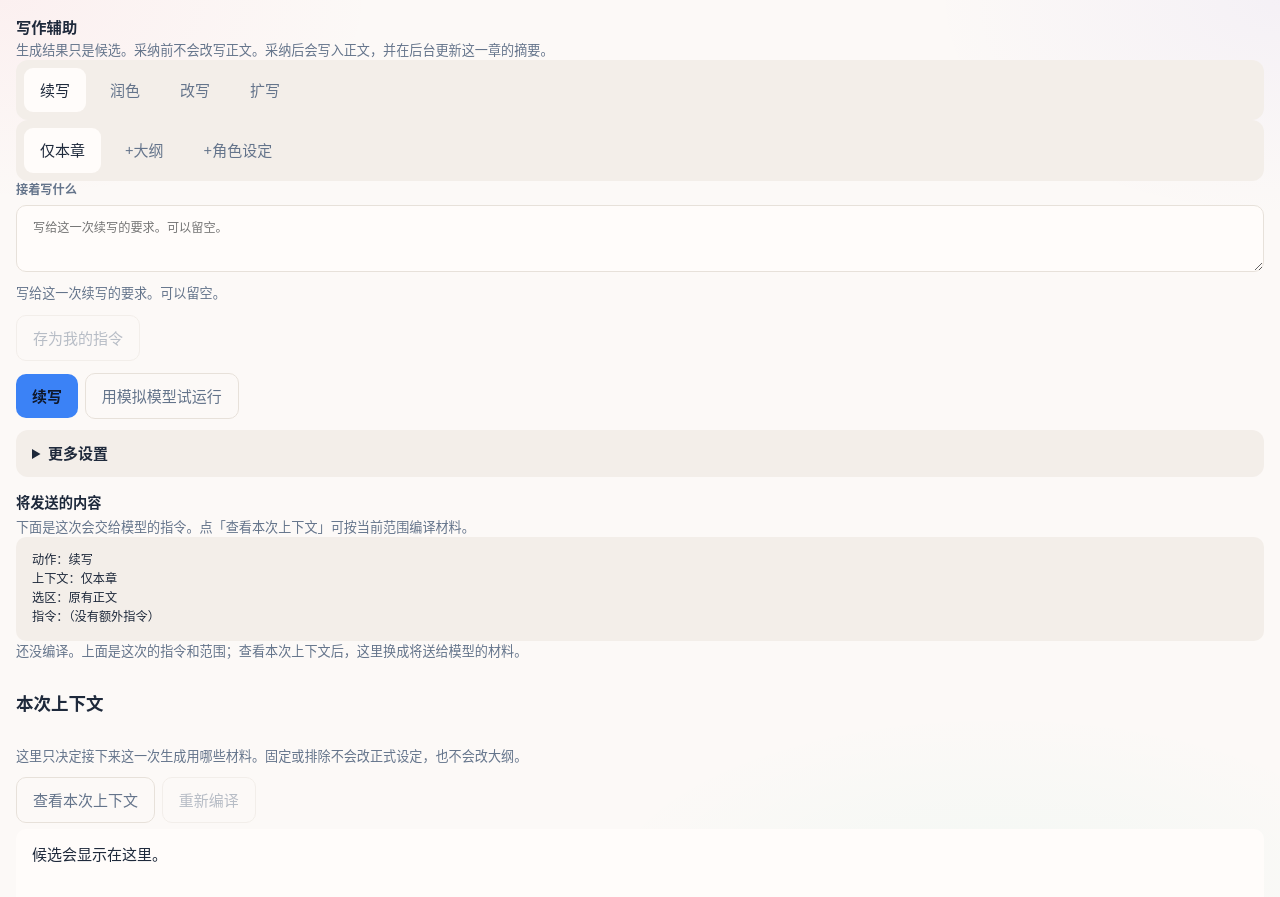
Test: AiPanel › t006 shows configuration guidance and does not start a task
Click the button "续写" below "写给这一次续写的要求。可以留空。".
click(47, 396)  # box [16,374,78,418]
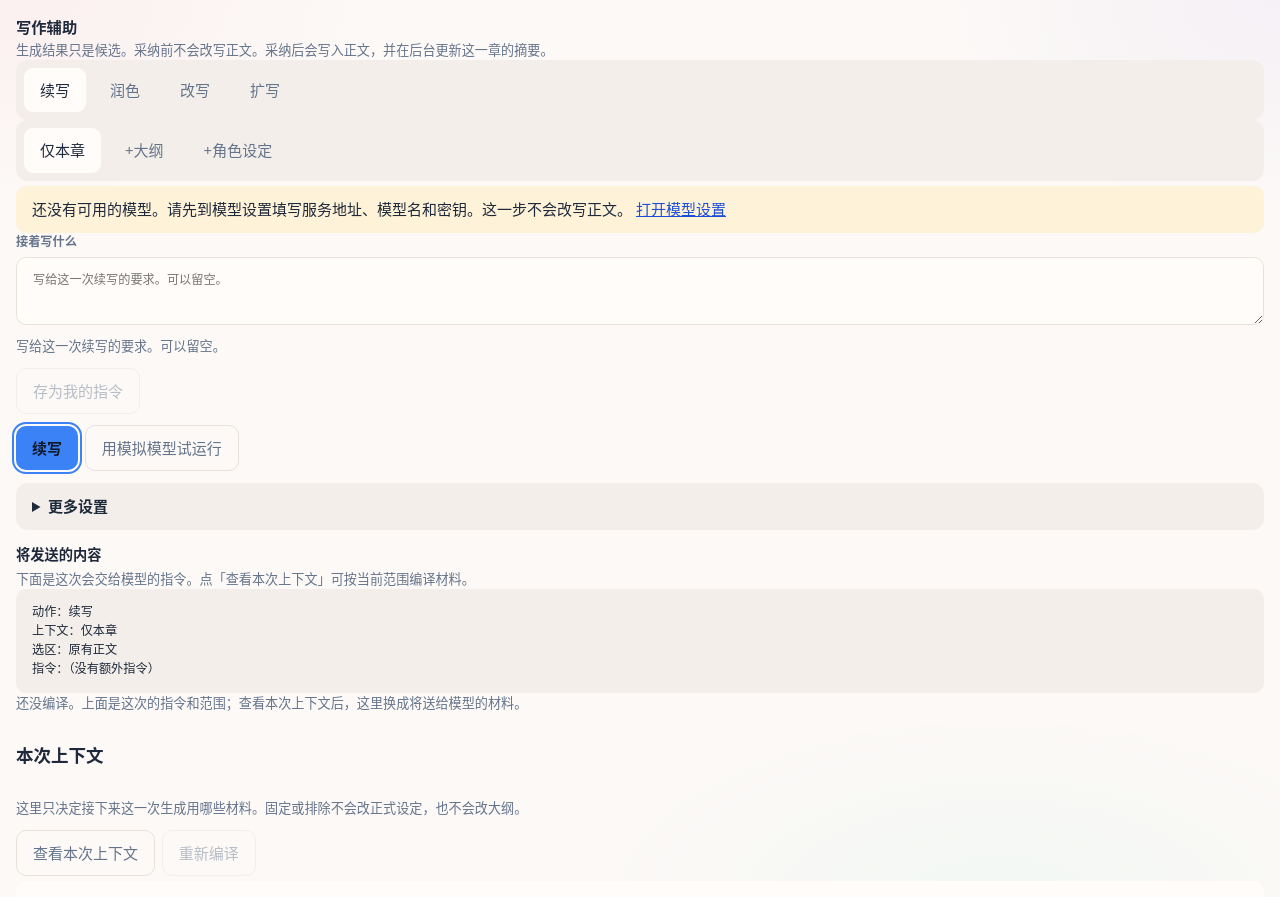
Result: the text "还没有可用的模型。请先到模型设置填写服务地址、模型名和密钥。这一步不会改写正文。 打开模型设置" is shown at [16,186,1264,233]
